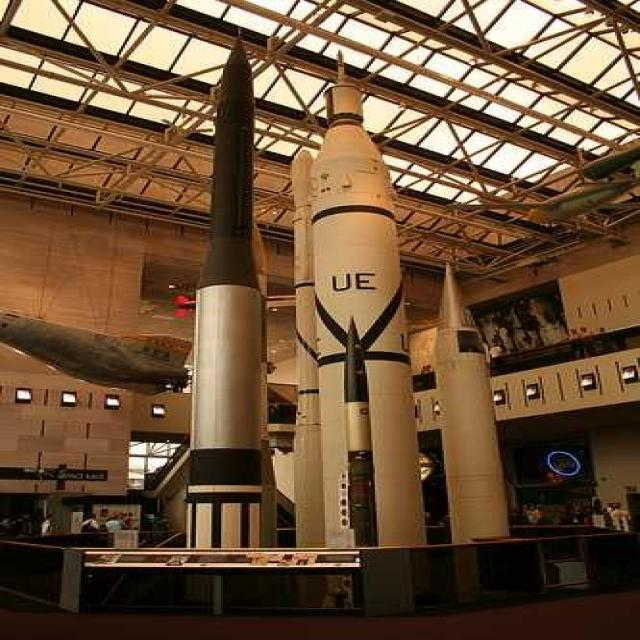missile: (294, 46, 431, 548), (172, 29, 294, 552), (423, 262, 536, 540)
